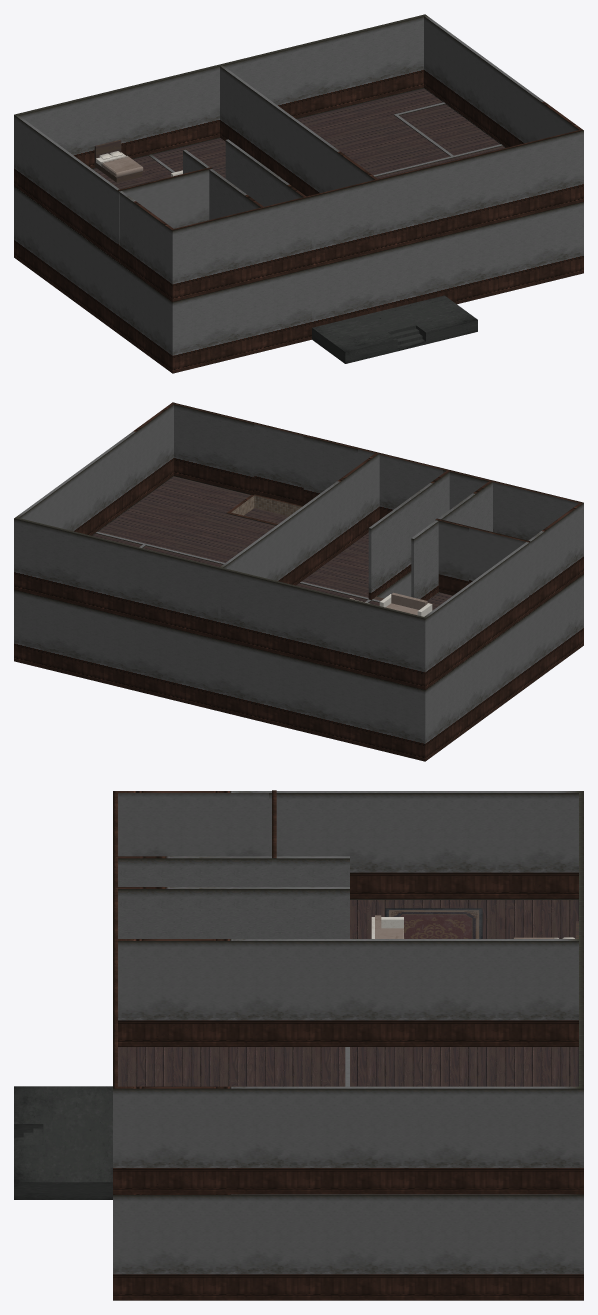
File: map7.glb
3 views of the same model, one above another, from view 1: azimuth 30°, elevation 25°; view 2: azimuth 150°, elevation 25°; view 3: azimuth 270°, elevation 25° (orthographic). The views are drawn at different scales.
Parts seen in each view (by area): view 1: object 43, object 156, object 40, object 143, object 138, object 137, object 33, object 30, object 159, object 144, object 141, object 157 (+7 smaller); view 2: object 43, object 142, object 156, object 40, object 143, object 138, object 141, object 144, object 161, object 159, object 137, object 160 (+3 smaller); view 3: object 144, object 36, object 141, object 40, object 156, object 161, object 25, object 34, object 119, object 43, object 151.
Part boxes in pixels (x1,y1,x2,y2): object 43: (14, 15, 423, 186); object 156: (92, 88, 504, 188); object 40: (15, 115, 175, 301); object 143: (15, 187, 175, 373); object 138: (444, 130, 580, 235); object 137: (174, 195, 311, 301); object 33: (175, 268, 311, 372); object 30: (444, 202, 580, 304); object 159: (311, 163, 444, 267); object 144: (423, 14, 583, 202); object 141: (218, 64, 379, 252); object 157: (311, 236, 444, 339); object 43: (17, 518, 426, 689); object 142: (17, 590, 426, 761); object 156: (93, 476, 452, 610); object 40: (424, 502, 583, 688); object 143: (427, 574, 583, 759); object 138: (174, 403, 310, 506); object 141: (218, 452, 379, 640); object 144: (14, 402, 174, 590); object 161: (368, 470, 449, 599); object 159: (309, 436, 444, 519); object 137: (443, 469, 580, 540); object 160: (435, 518, 530, 613); object 144: (113, 1086, 583, 1194); object 36: (113, 1194, 583, 1300); object 141: (113, 939, 583, 1046); object 40: (113, 791, 578, 898); object 156: (118, 900, 578, 1086); object 161: (116, 887, 349, 938); object 25: (14, 1086, 112, 1199); object 34: (116, 856, 349, 886); object 119: (385, 908, 482, 938); object 43: (579, 791, 583, 1086); object 151: (371, 915, 403, 938).
Bounding box in the file's own units: 85.44 × 29.46 × 69.09.
Materials: 37 (36 with a texture image).
